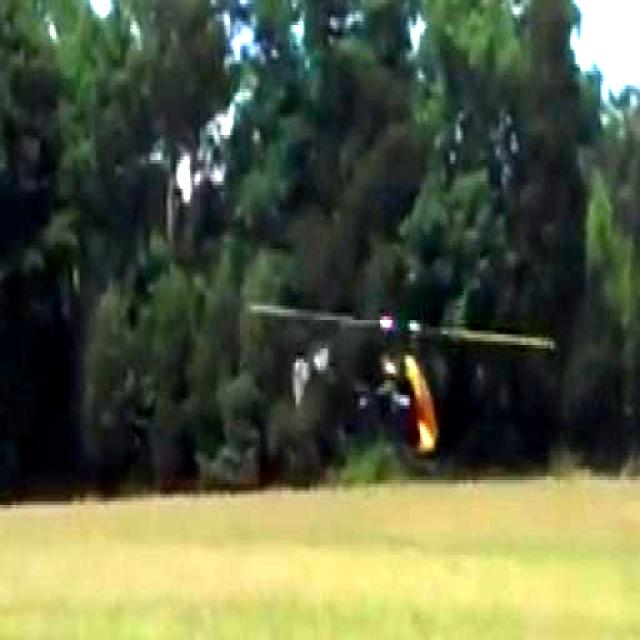drone: (244, 289, 560, 468)
